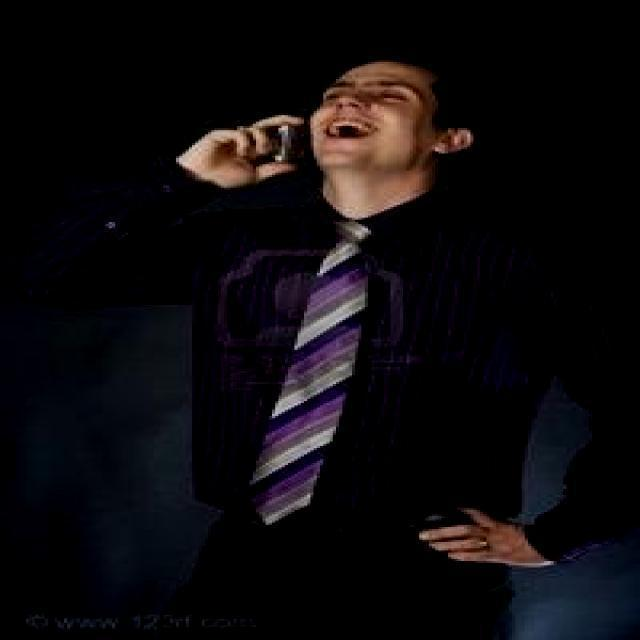no_vest: (171, 187, 567, 530)
